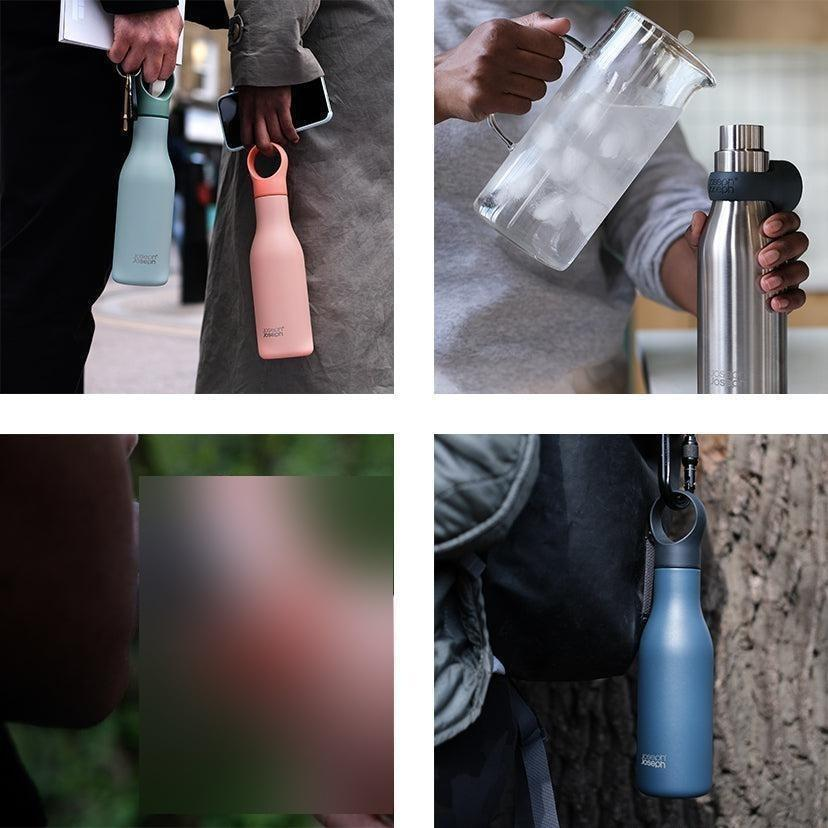gym bottle: (693, 120, 795, 392), (632, 502, 716, 802), (246, 146, 312, 359), (109, 78, 176, 286)
